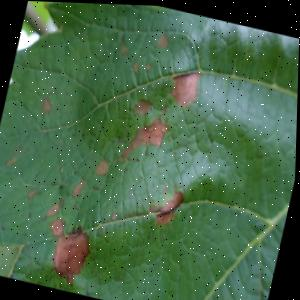Folha: (0, 0, 300, 300)
Fungo: (118, 55, 202, 173), (118, 107, 172, 169), (47, 221, 96, 286), (147, 181, 186, 229), (166, 62, 202, 108), (158, 183, 185, 216), (48, 213, 69, 237), (133, 93, 153, 116), (46, 197, 61, 217), (40, 94, 53, 115), (155, 29, 170, 47), (96, 156, 111, 174), (72, 177, 84, 197), (27, 184, 42, 199), (6, 152, 19, 167), (131, 58, 140, 72), (119, 42, 128, 54), (111, 208, 118, 220), (144, 59, 151, 70)
